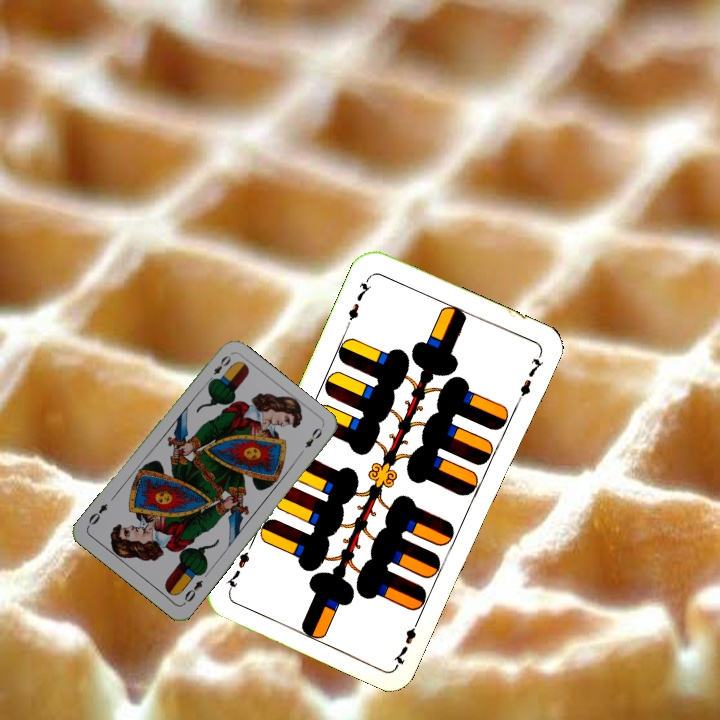E7: (389, 612, 424, 668), (343, 273, 375, 329)
EO: (203, 351, 234, 386), (179, 576, 205, 607)
